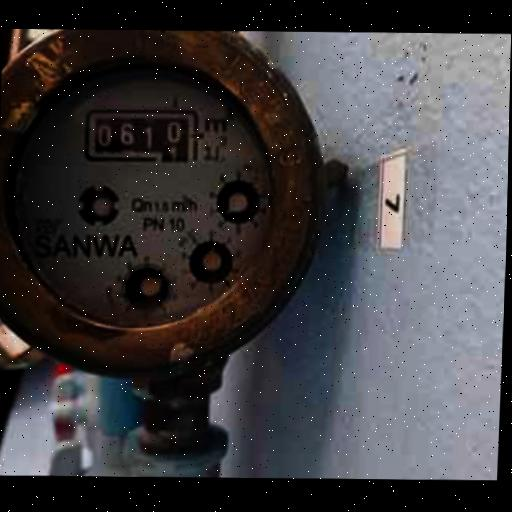0: (159, 116, 188, 161), (93, 118, 117, 151)
1: (136, 117, 162, 151)
6: (114, 117, 138, 151)
border_water_meter_number: (82, 107, 200, 163)
